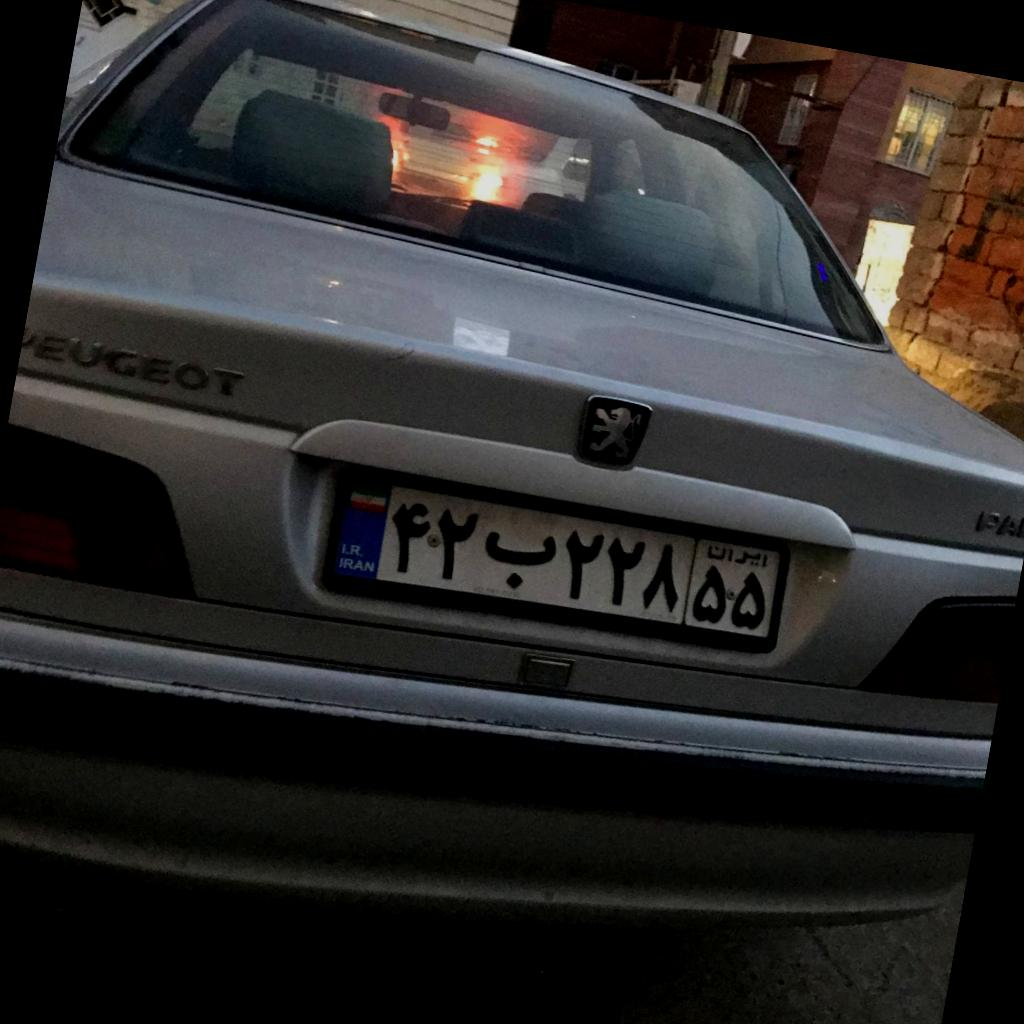Plates: (333, 476, 783, 638)
